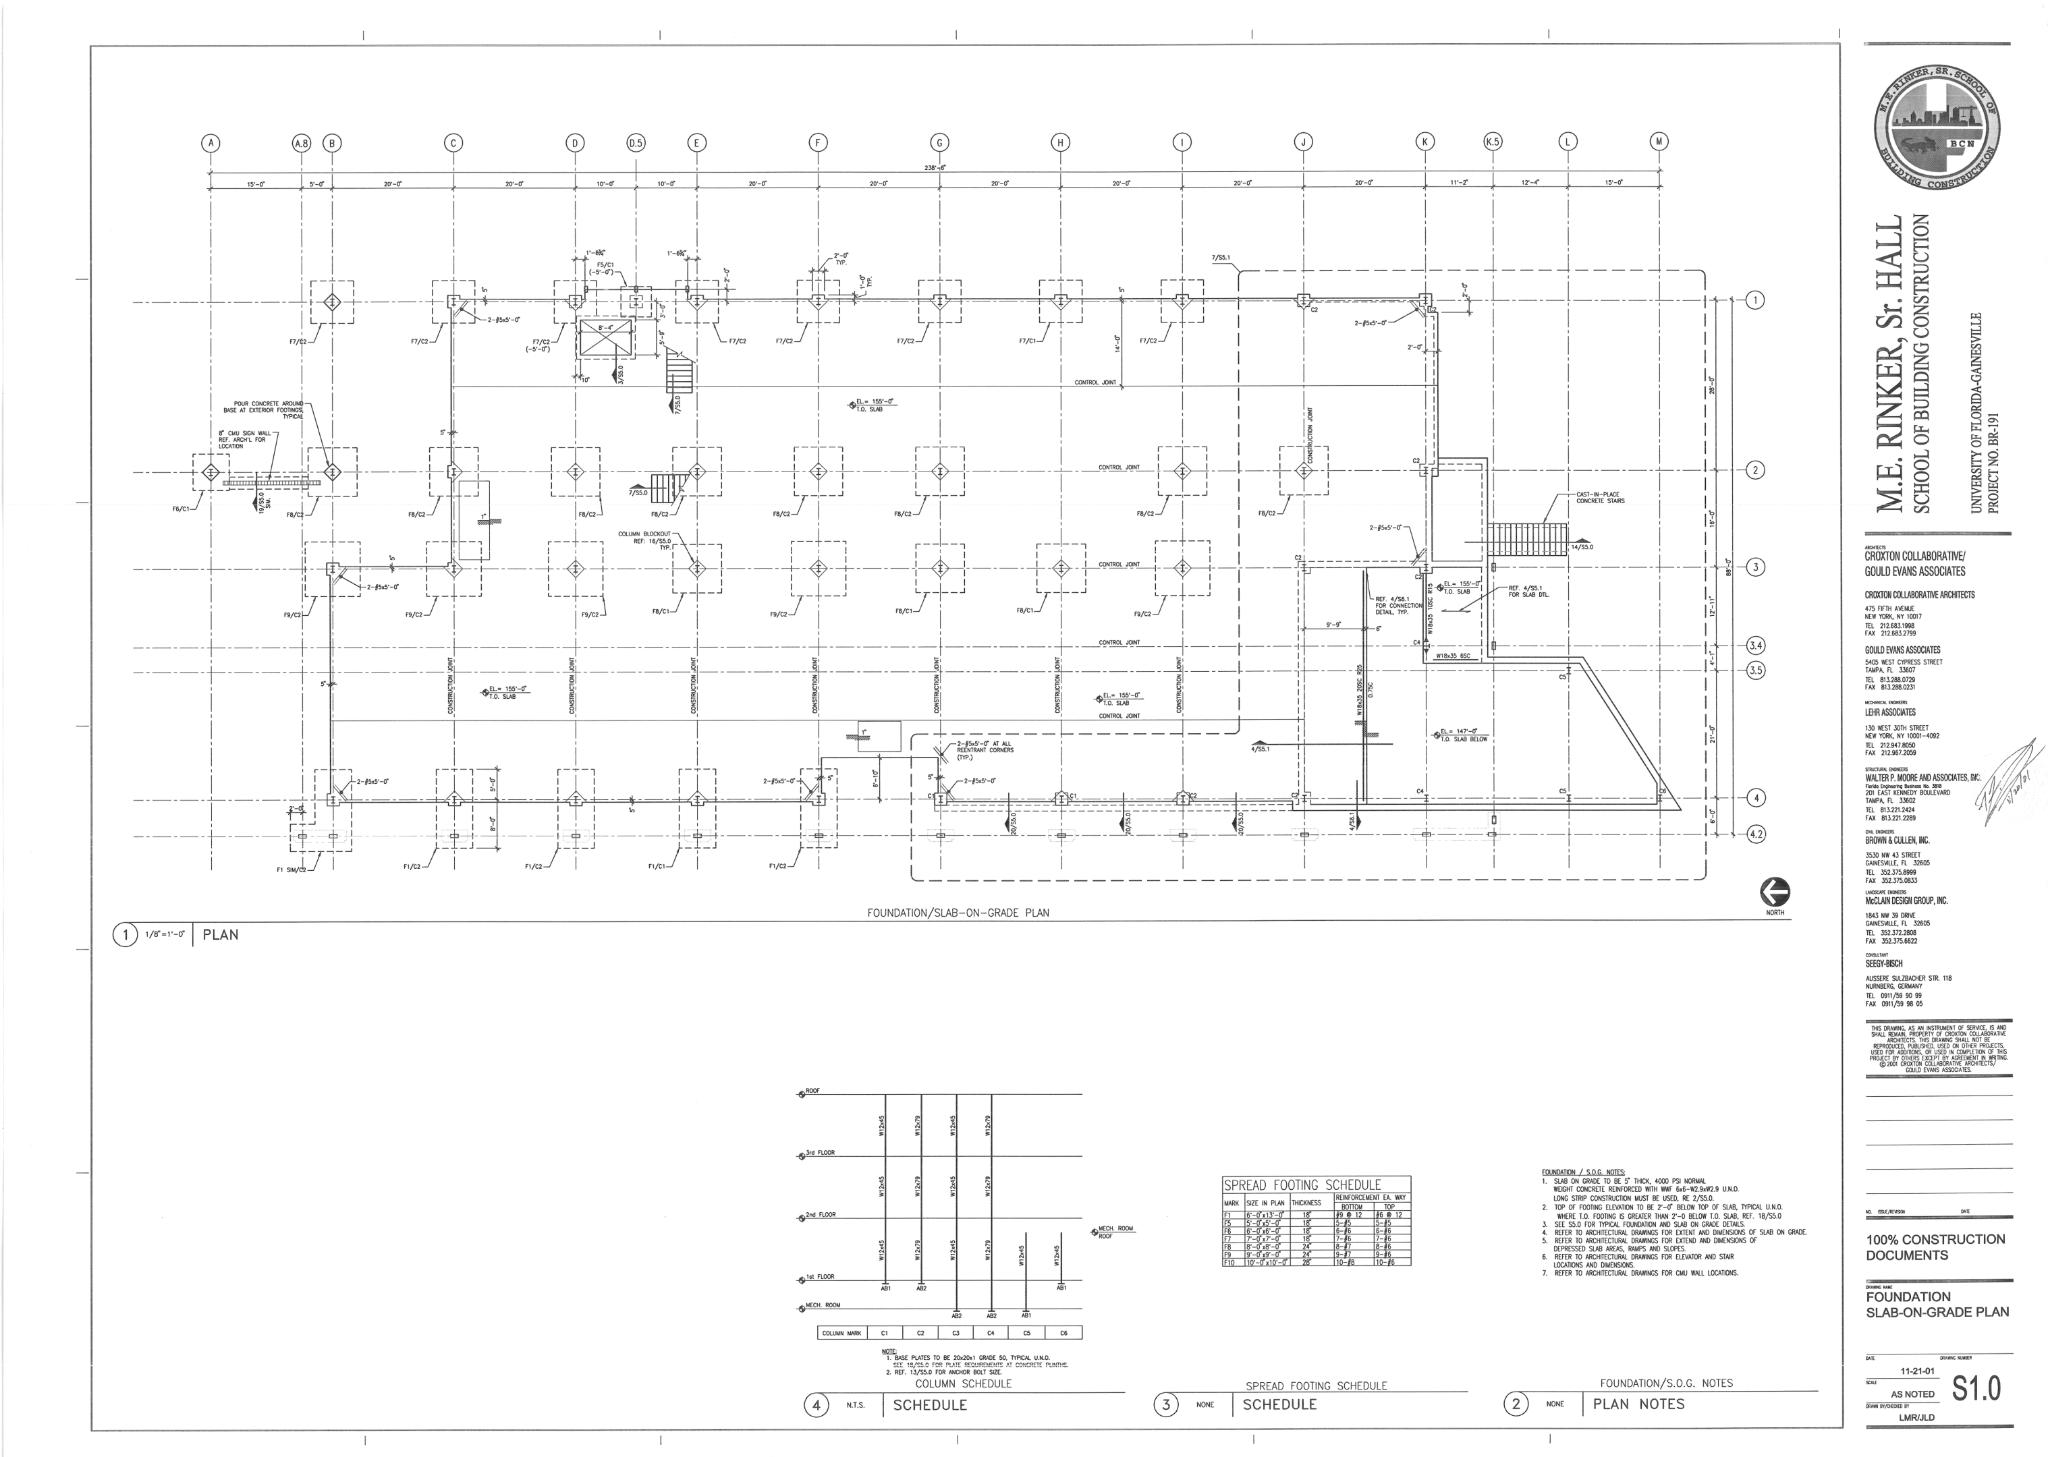elevation: (1250, 738, 1394, 752), (1462, 538, 1594, 552), (252, 470, 271, 516), (1348, 779, 1364, 833), (1118, 790, 1134, 837), (610, 342, 626, 386), (668, 372, 683, 416), (626, 483, 668, 497), (1231, 790, 1244, 837), (1004, 792, 1017, 837)
